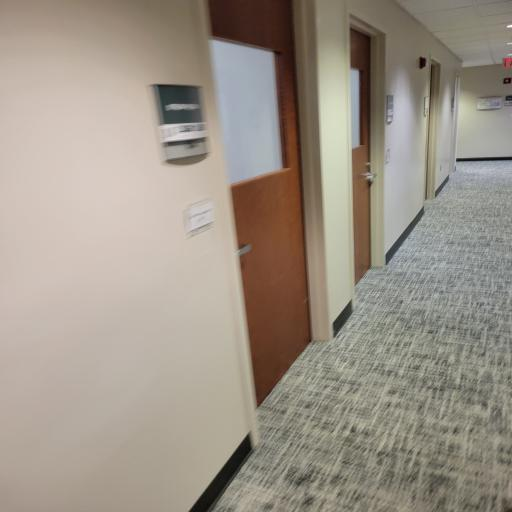door: (197, 0, 330, 365), (352, 17, 392, 286)
